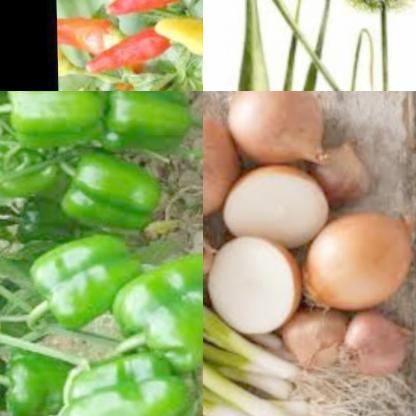bell pepper: (111, 247, 203, 373), (26, 235, 134, 329), (57, 342, 193, 416), (53, 153, 159, 237), (1, 91, 104, 160), (100, 91, 192, 159), (0, 343, 75, 416)
hot pepper: (81, 26, 167, 74), (54, 12, 122, 58), (145, 8, 203, 50), (55, 46, 93, 87), (104, 0, 192, 17)
onion: (290, 206, 410, 318), (214, 163, 329, 249), (203, 235, 301, 333), (217, 91, 333, 170), (338, 304, 406, 383), (303, 147, 375, 208), (278, 309, 344, 370), (203, 107, 236, 216)
